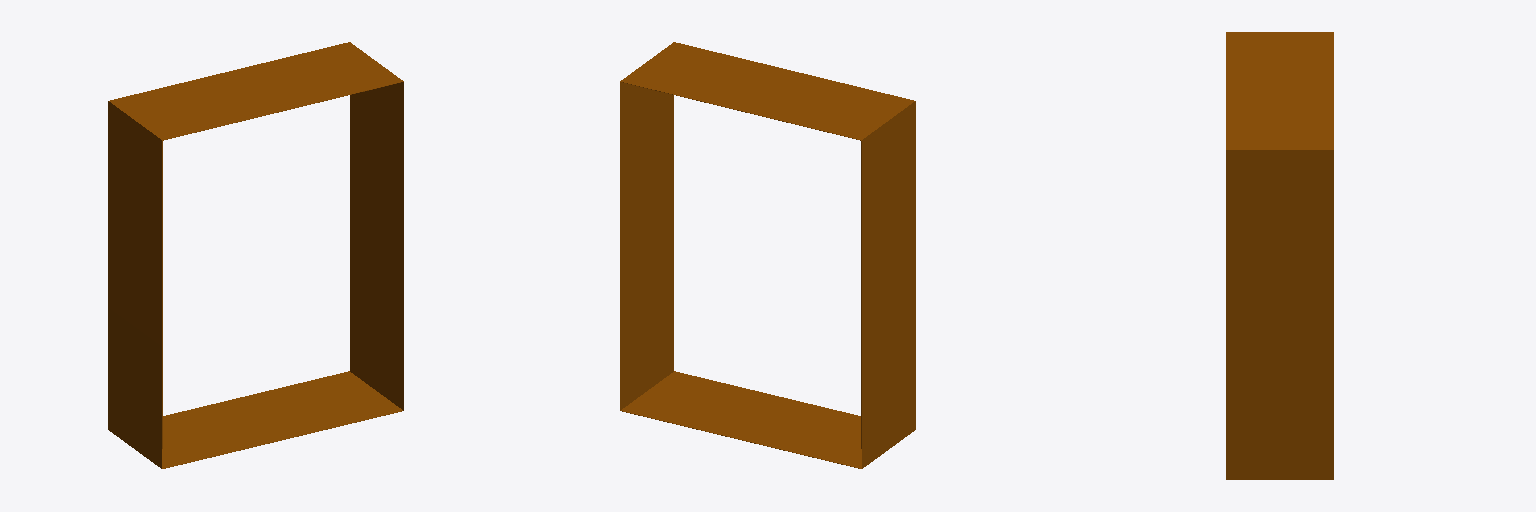
File: alley_wall_v2.obj
The picture shows the model from 3 angles: view 1: azimuth 30°, elevation 25°; view 2: azimuth 150°, elevation 25°; view 3: azimuth 270°, elevation 25°; orthographic projection.
Parts seen in each view (by area): view 1: mesh9, mesh1, mesh10, mesh2, mesh3, mesh4; view 2: mesh9, mesh1, mesh10, mesh2, mesh3, mesh4; view 3: mesh0, mesh1.
Boxes of the visible parts, <box> form: mesh9: <box>350,82,403,410</box>; mesh1: <box>109,42,403,140</box>; mesh10: <box>162,371,402,468</box>; mesh2: <box>108,101,161,345</box>; mesh3: <box>108,307,161,416</box>; mesh4: <box>108,378,161,468</box>; mesh9: <box>620,82,673,410</box>; mesh1: <box>620,42,914,140</box>; mesh10: <box>621,371,861,468</box>; mesh2: <box>862,101,915,345</box>; mesh3: <box>862,307,915,416</box>; mesh4: <box>862,378,915,468</box>; mesh0: <box>1226,150,1333,479</box>; mesh1: <box>1226,32,1333,149</box>.
Size of the model in its own units: 10.31 by 13.43 by 4.